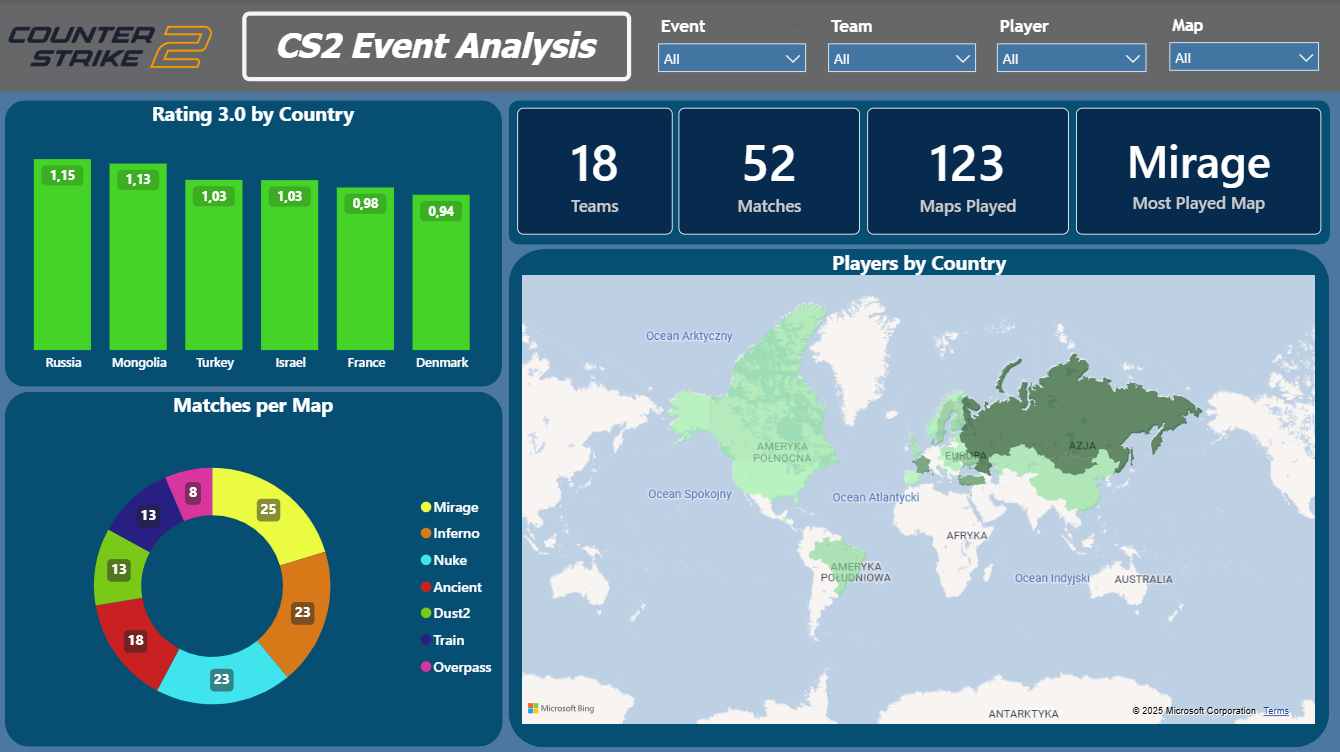

What the dashboard file says about the page in this screenshot:
{"tool":"powerbi","page":{"name":"Overall Insights","canvas":[1280,720],"ordinal":0},"visuals":[{"type":"shape","box":[8.2,95.9,473.5,272.9],"z":0},{"type":"shape","box":[7.9,374.2,474.2,338.4],"z":1000},{"type":"shape","box":[488.2,238.2,781.8,474.7],"z":2000},{"type":"shape","box":[487.6,95.9,782.4,137.6],"z":3000},{"type":"card","fields":{"Values":["Matches_data.Num_Teams"]},"box":[496.5,103.5,147.6,120.6],"z":4000},{"type":"card","fields":{"Values":["Matches_data.Num_Matches"]},"box":[650.6,103.5,172.9,121.2],"z":5000},{"type":"card","fields":{"Values":["Matches_data.Most Played Map"]},"box":[1028.8,103.5,233.5,120.6],"z":6000},{"type":"filledMap","title":"Players by Country","fields":{"Category":["Players_data.Nationality"]},"box":[496.5,238.2,765.3,457.1],"z":7000},{"type":"card","fields":{"Values":["Matches_data.Total_Maps_Played"]},"box":[829.4,103.5,191.8,120.6],"z":8000},{"type":"columnChart","title":"Rating 3.0 by Country","fields":{"Category":["Players_data.Nationality"],"Y":["Players_data.Avg Rating 3.0"]},"box":[7.1,95.9,474.7,262.9],"z":9000},{"type":"donutChart","title":"Matches per Map","fields":{"Category":["Maps.Map"],"Y":["Maps.Matches per Map"]},"box":[7.9,374.2,473.2,345.8],"z":10000},{"type":"shape","box":[0,0,1280,89],"z":12000},{"type":"slicer","fields":{"Values":["Players_data.Team"]},"box":[781.8,12.2,161.3,64.7],"z":13000},{"type":"slicer","fields":{"Values":["Players_data.Player"]},"box":[943.1,12.2,162.5,64.7],"z":14000},{"type":"textbox","box":[235,11.7,370,66.7],"z":15000},{"type":"slicer","fields":{"Values":["Matches_data.Event"]},"box":[620.6,12.2,161.3,74.5],"z":16000},{"type":"image","box":[6.7,6.7,203.3,76.7],"z":17000},{"type":"slicer","fields":{"Values":["Maps.Map"]},"box":[1107.1,10.7,163.1,65.5],"z":17500}]}

Visuals, with their boxes in screenshot pixels (x1, y1, x2, y2), scaled from the page's 1280x720 canvas onto the 1340x752 screenshot:
shape: detection(9, 100, 504, 385)
shape: detection(8, 391, 505, 744)
shape: detection(511, 249, 1330, 745)
shape: detection(510, 100, 1330, 244)
card - Matches_data.Num_Teams: detection(520, 108, 674, 234)
card - Matches_data.Num_Matches: detection(681, 108, 862, 235)
card - Matches_data.Most Played Map: detection(1077, 108, 1321, 234)
"Players by Country" filledMap: detection(520, 249, 1321, 726)
card - Matches_data.Total_Maps_Played: detection(868, 108, 1069, 234)
"Rating 3.0 by Country" columnChart: detection(7, 100, 504, 375)
"Matches per Map" donutChart: detection(8, 391, 504, 751)
shape: detection(0, 0, 1339, 93)
slicer - Players_data.Team: detection(818, 13, 987, 80)
slicer - Players_data.Player: detection(987, 13, 1157, 80)
textbox: detection(246, 12, 633, 82)
slicer - Matches_data.Event: detection(650, 13, 819, 91)
image: detection(7, 7, 220, 87)
slicer - Maps.Map: detection(1159, 11, 1330, 80)
